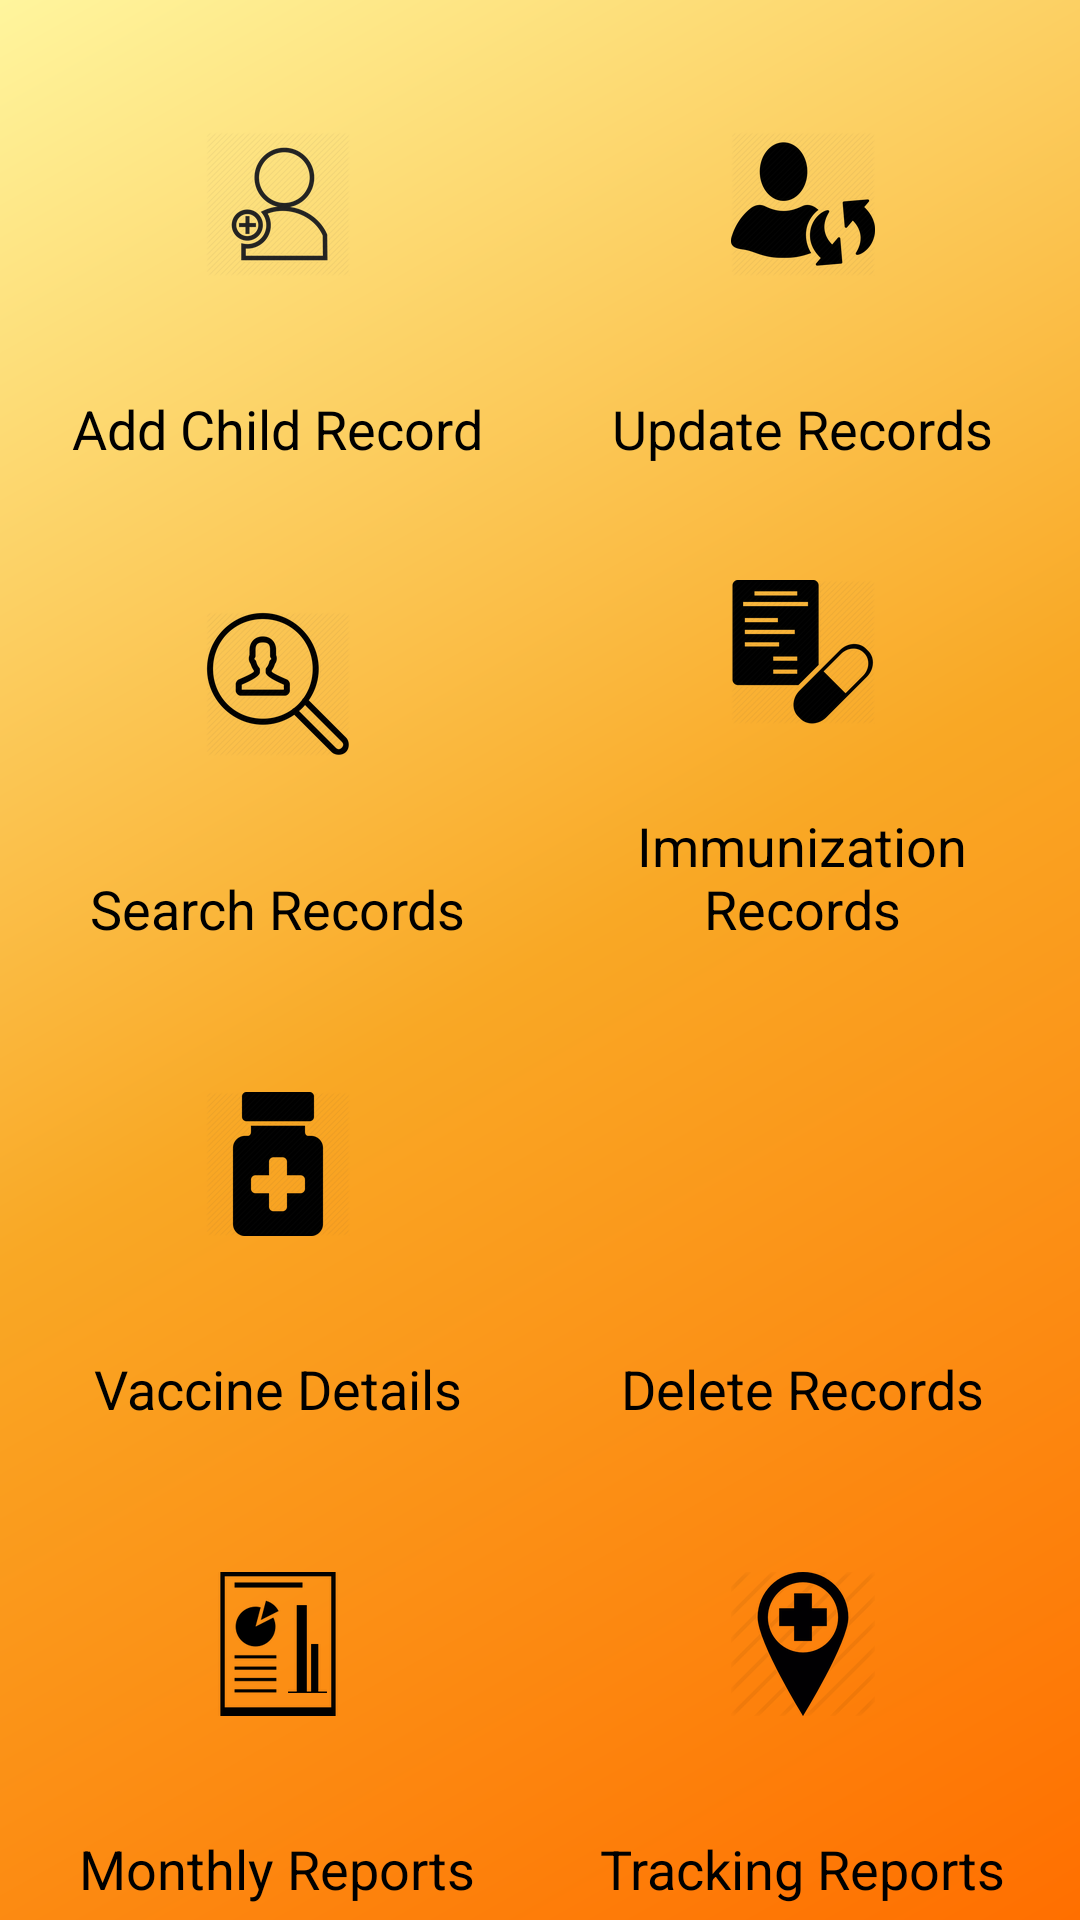

Point at icon controls on the screen. Image size 1080 × 1920, points as [x,y].
monthrep: [278,1644]
trackrec: [803,1644]
